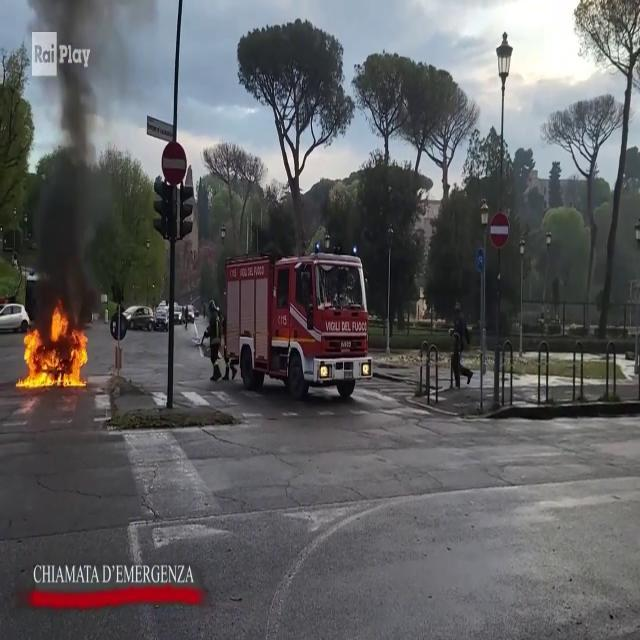Fire: (17, 303, 91, 393)
Smoke: (24, 0, 120, 314)
